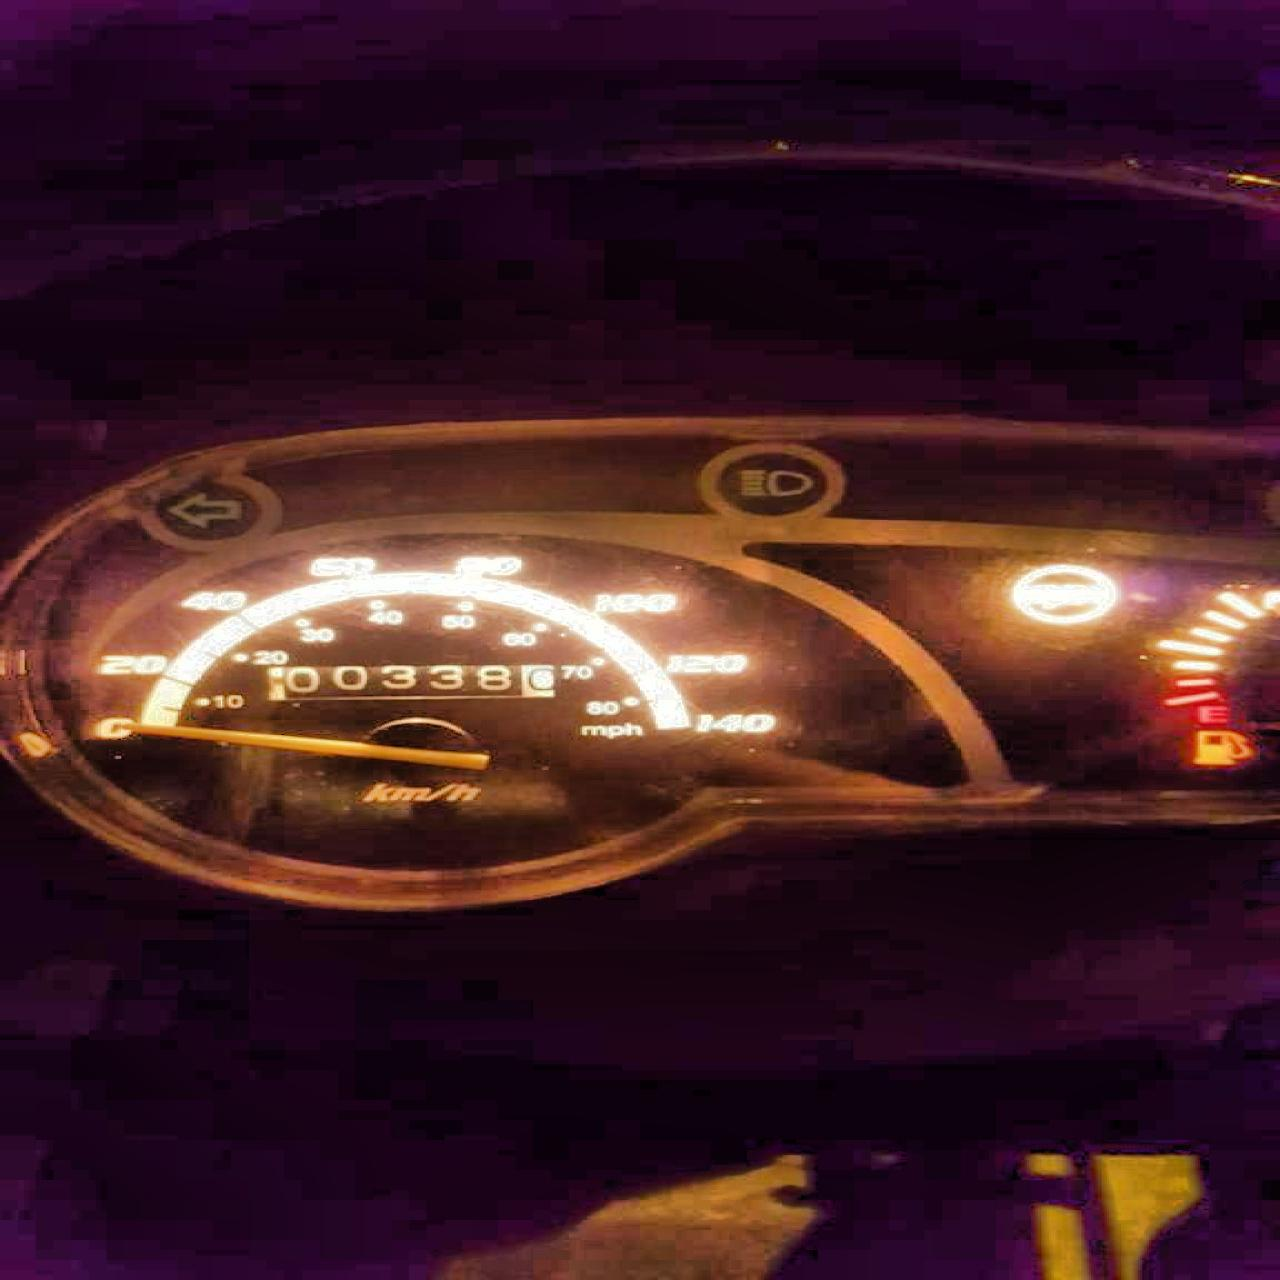0: (329, 661, 369, 692), (285, 665, 320, 694), (526, 663, 556, 694)
3: (427, 662, 464, 692), (377, 662, 415, 689)
8: (474, 663, 511, 694)
odometer: (258, 659, 563, 703)
